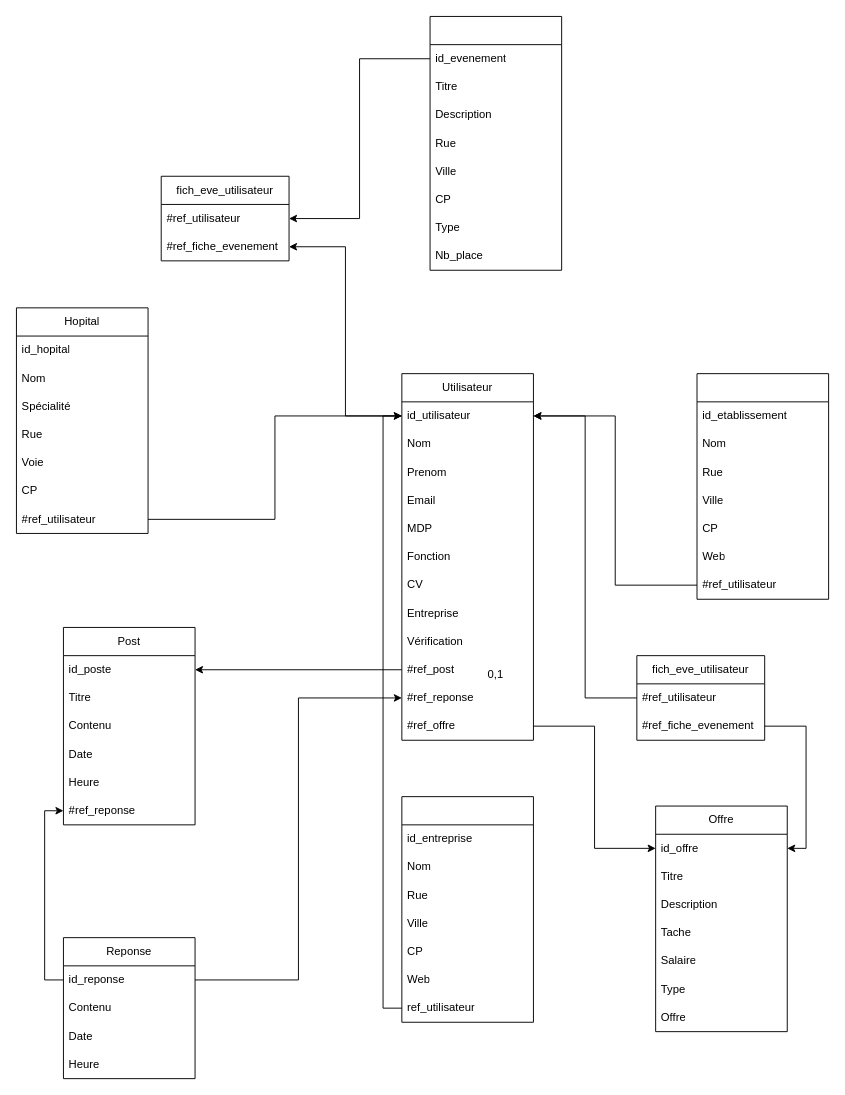
Image size: 845x1095. Some labels were removed from this diagram. Each missing label, with the box of its shape:
Fiche-etablissement: (696, 373, 829, 599)
Fiche_entreprise: (401, 796, 533, 1022)
Fiche_evenement: (429, 16, 562, 270)
